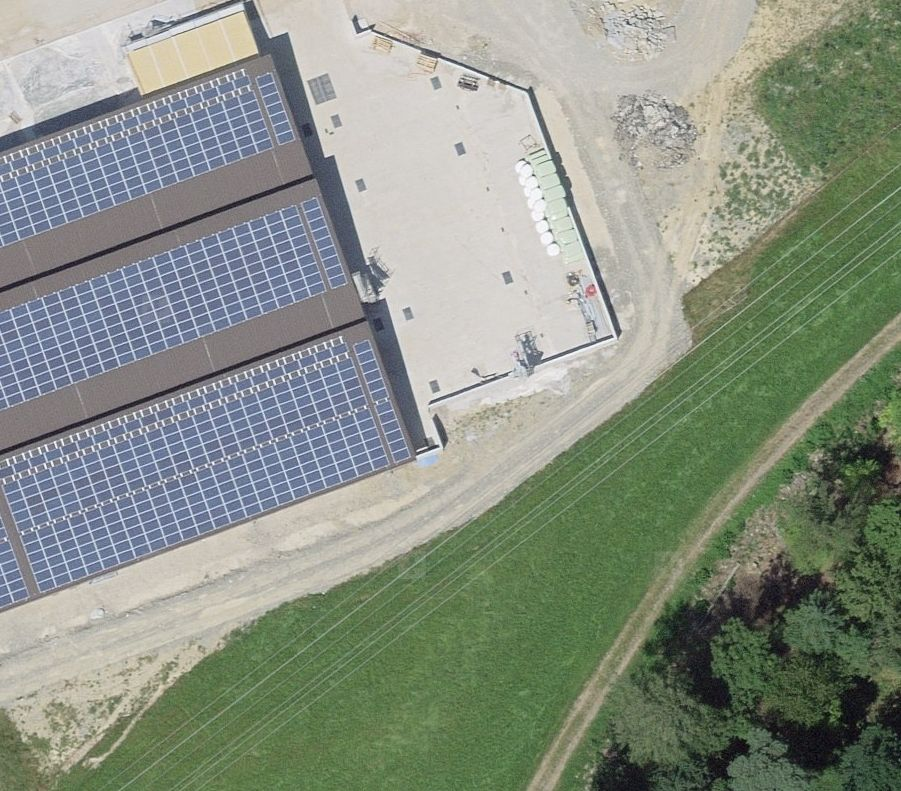solar: (1, 69, 416, 619)
